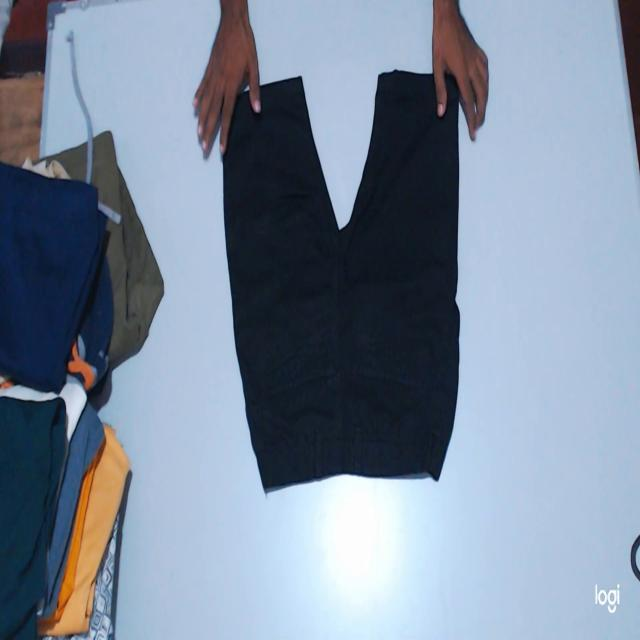new-garment: (223, 71, 459, 488)
